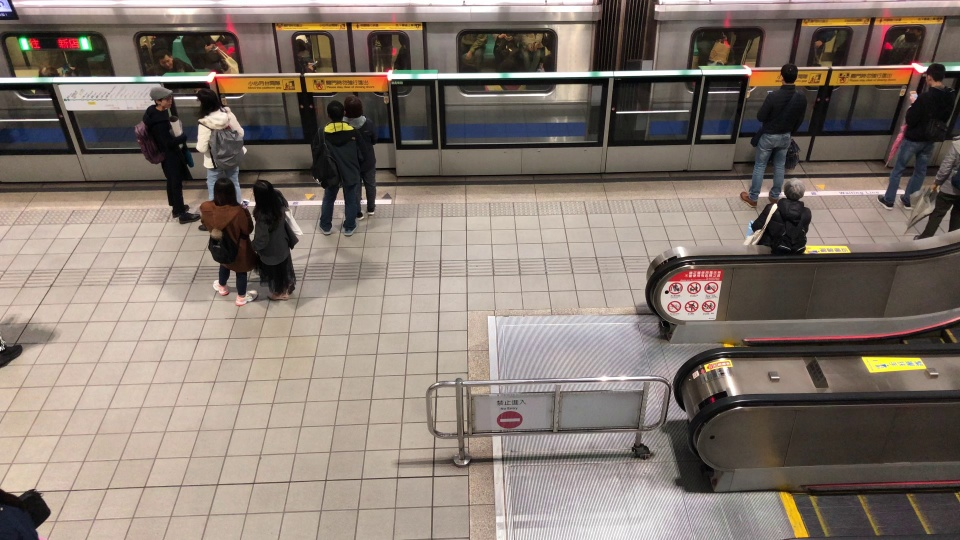person_head: (203, 176, 243, 214), (250, 172, 285, 210), (191, 77, 226, 111), (144, 86, 182, 117), (922, 63, 948, 87), (784, 178, 806, 205), (778, 64, 799, 89), (322, 99, 344, 121), (347, 96, 364, 121)
person_vbox: (876, 63, 957, 216), (732, 63, 814, 208), (118, 88, 199, 226), (172, 176, 254, 302), (244, 172, 307, 307), (308, 99, 360, 236), (194, 85, 250, 210), (907, 131, 960, 249), (739, 177, 814, 254), (339, 95, 382, 224)
